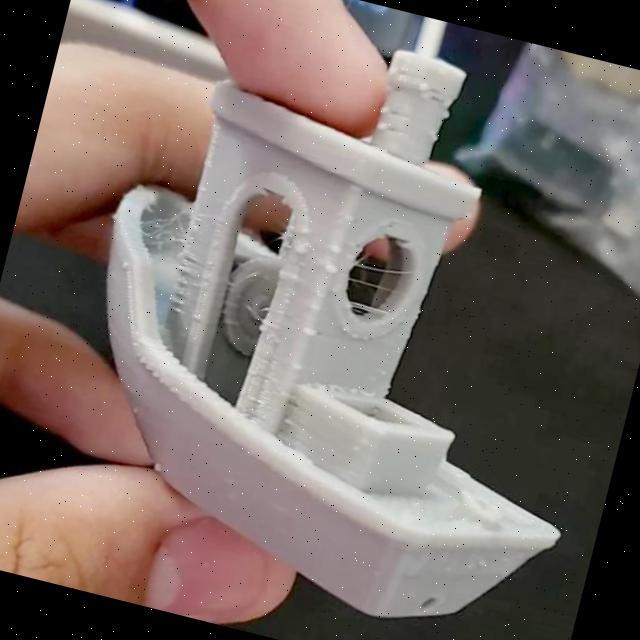blobs: (298, 317, 326, 342), (284, 357, 308, 378), (320, 260, 342, 282), (288, 238, 310, 260), (292, 218, 314, 240), (322, 240, 347, 258)
